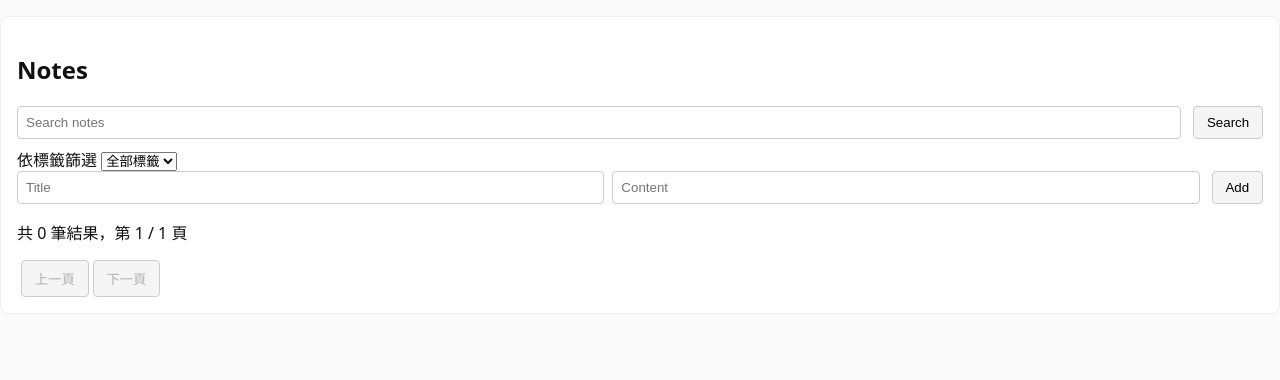
Test: NotesSection › creates a new note and refreshes the list
In the field named "Note title": (311, 187) [17, 171, 604, 204], type "New"
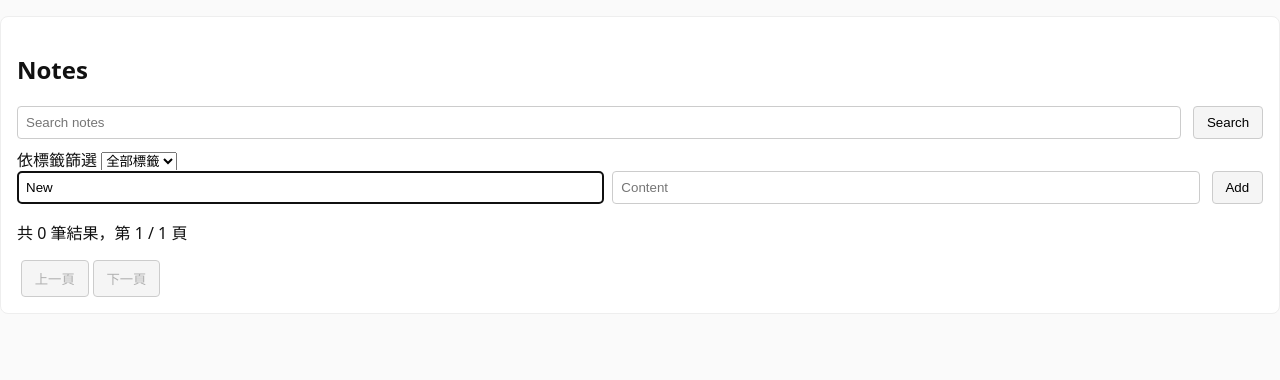
In the field named "Note content": (906, 187) [612, 171, 1200, 204], type "Note"
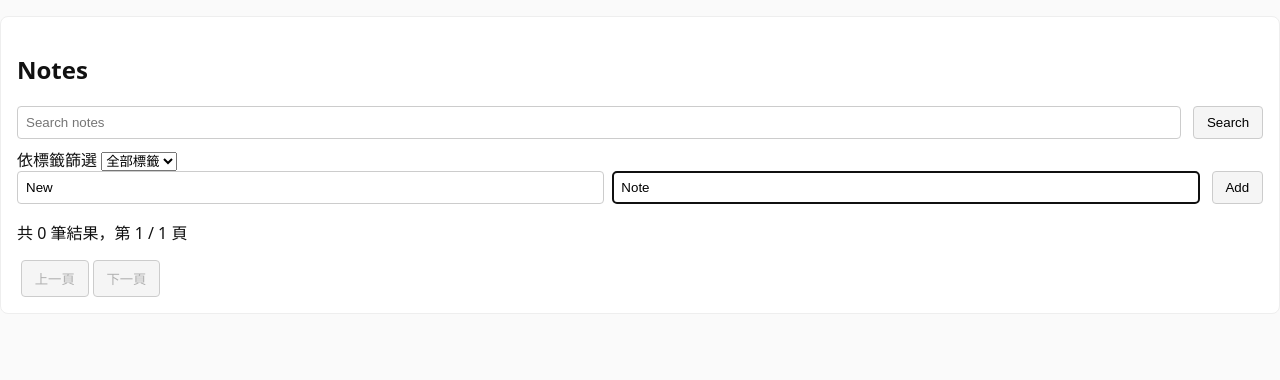
Click the button "Add": (1237, 187) [1212, 171, 1263, 204]
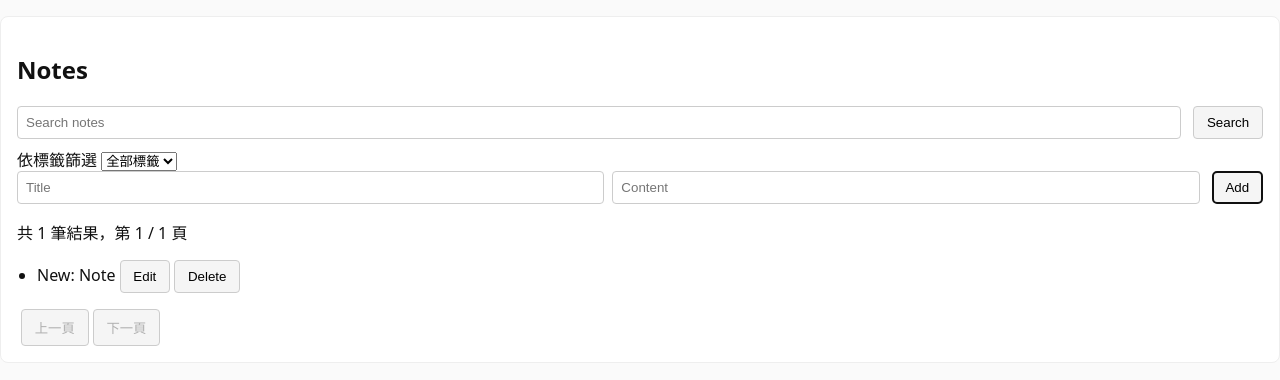
expect the list item "New: Note Edit Delete" is shown: met, box [37, 260, 240, 293]
